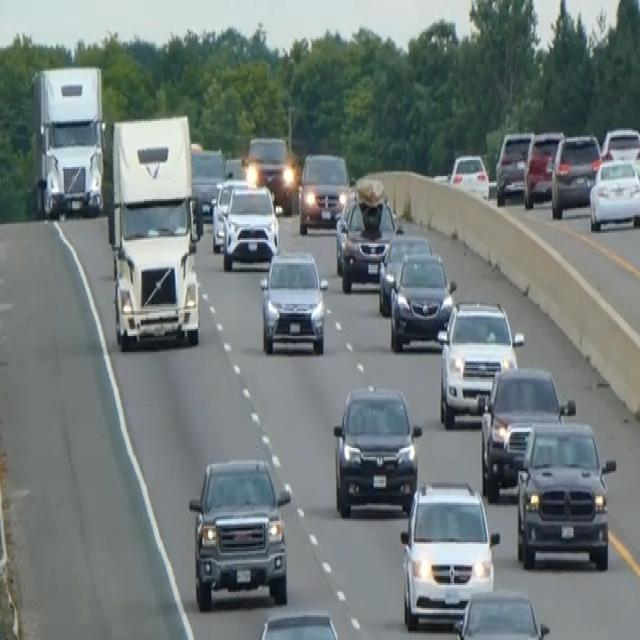car: (515, 416, 616, 571), (399, 478, 499, 630), (479, 362, 575, 500), (331, 382, 422, 518), (436, 297, 524, 428), (259, 247, 327, 356), (335, 178, 398, 292), (388, 249, 455, 352), (221, 182, 279, 270), (452, 587, 550, 638), (377, 231, 432, 315), (297, 149, 350, 233), (550, 132, 601, 218), (244, 134, 294, 214), (588, 155, 639, 231), (523, 128, 563, 208), (494, 128, 534, 204), (210, 174, 248, 251), (249, 608, 344, 638), (190, 146, 227, 217), (449, 151, 490, 199), (600, 124, 639, 162)
jeep: (187, 454, 291, 612)
lorry: (106, 112, 202, 350), (29, 61, 107, 220)
